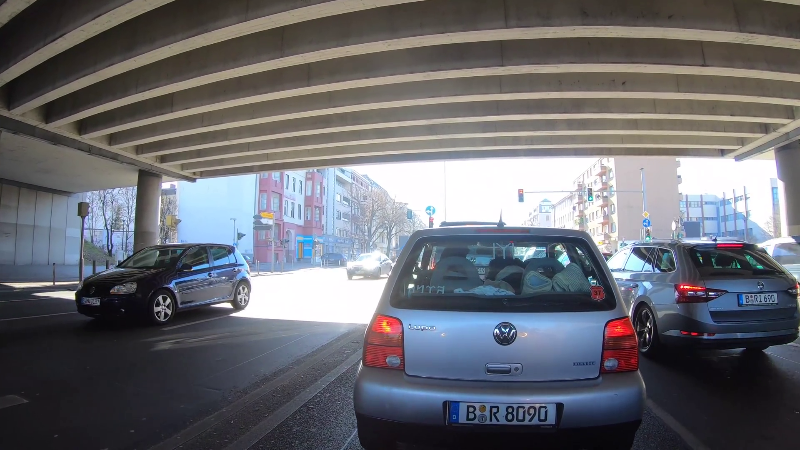Plate: (447, 400, 558, 428), (736, 293, 780, 304), (77, 296, 100, 306)
